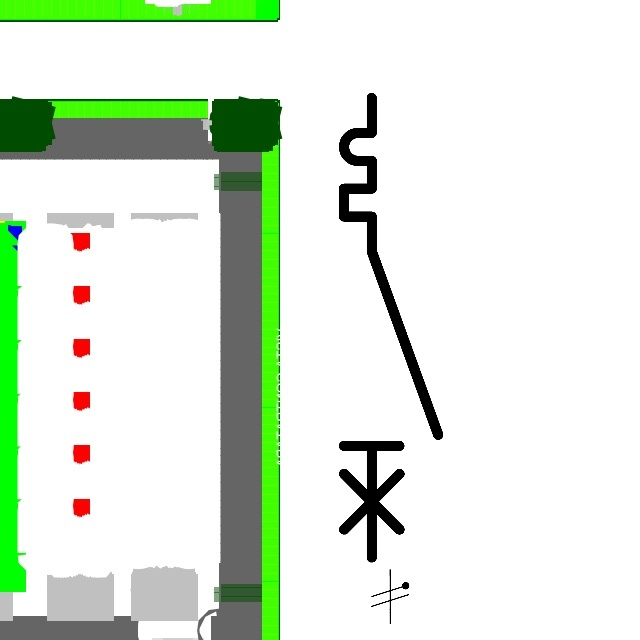interruptor_termomagnetico: (332, 86, 450, 569)
